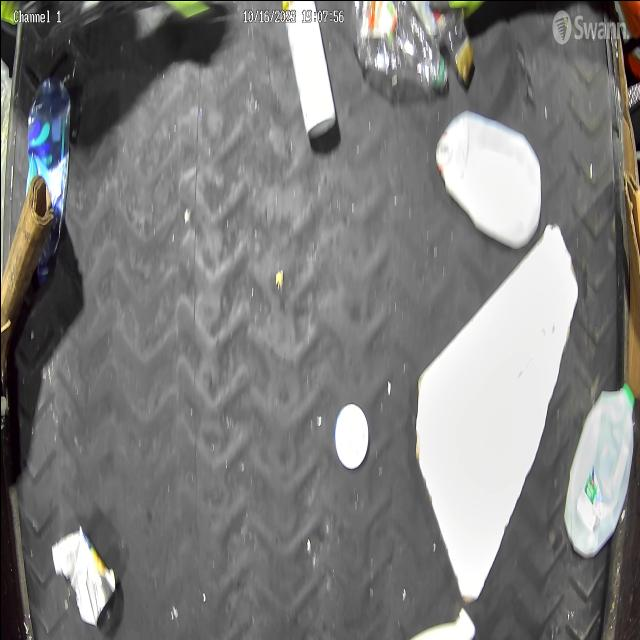can: (50, 521, 117, 631)
milk_jug: (433, 107, 543, 250), (562, 376, 635, 556)
plastic_bottle: (352, 0, 449, 96), (432, 0, 474, 84)
